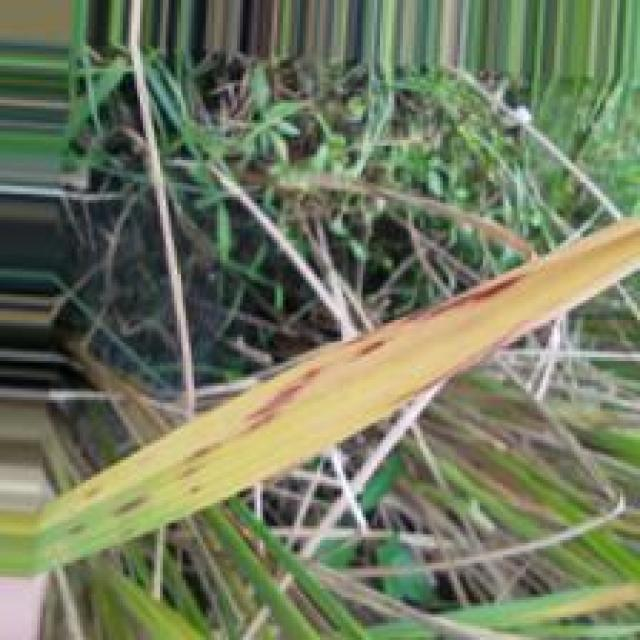Narrow_Brown_Leaf_Spot: (0, 211, 640, 552)
